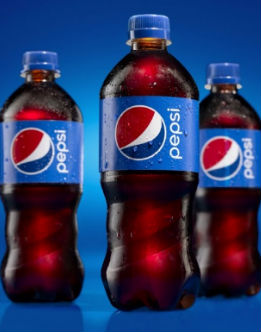pepsi: (113, 103, 165, 161), (9, 125, 54, 175), (199, 133, 241, 180)
